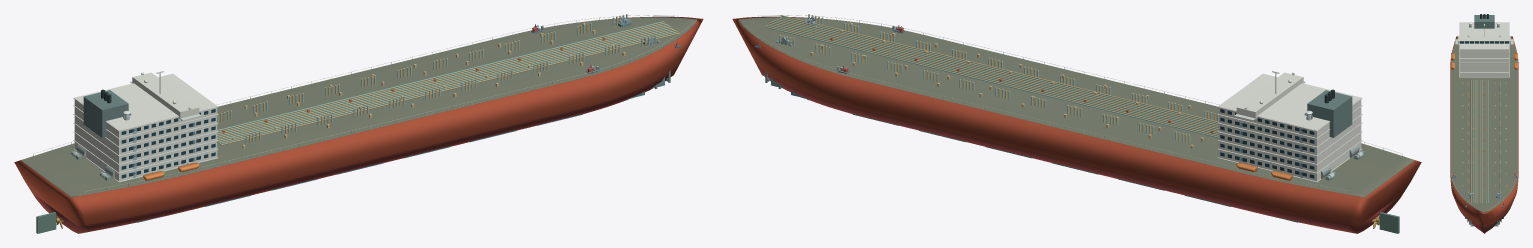
File: bow-pioneer.lod1.glb
3 views of the same model, side by side, from view 1: azimuth 30°, elevation 25°; view 2: azimuth 150°, elevation 25°; view 3: azimuth 270°, elevation 25° (orthographic). The views are drawn at different scales.
Visible parts, largest first — view 1: bow-pioneer.structure.decks.main-strength-deck.1, bow-pioneer.structure.hull.outer-hull-shell.1, bow-pioneer.structure.hull.antifouling-underwater-shell.1, bow-pioneer.accommodation.superstructure.deck-6-enclosure.1, bow-pioneer.propulsion.exhaust.exhaust-casing.1, bow-pioneer.navigation.bridge.wheelhouse.1, bow-pioneer.accommodation.superstructure.deck-3-enclosure.1, bow-pioneer.accommodation.superstructure.deck-2-enclosure.1, bow-pioneer.accommodation.superstructure.deck-4-enclosure.1, bow-pioneer.cargo.deck-piping.cargo-pipeline-6.1, bow-pioneer.cargo.deck-piping.cargo-pipeline-7.1, bow-pioneer.cargo.deck-piping.cargo-pipeline-5.1 (+10 smaller); view 2: bow-pioneer.structure.decks.main-strength-deck.1, bow-pioneer.structure.hull.outer-hull-shell.1, bow-pioneer.structure.hull.antifouling-underwater-shell.1, bow-pioneer.accommodation.superstructure.deck-6-enclosure.1, bow-pioneer.propulsion.exhaust.exhaust-casing.1, bow-pioneer.navigation.bridge.wheelhouse.1, bow-pioneer.accommodation.superstructure.deck-3-enclosure.1, bow-pioneer.accommodation.superstructure.deck-2-enclosure.1, bow-pioneer.accommodation.superstructure.deck-4-enclosure.1, bow-pioneer.cargo.deck-piping.cargo-pipeline-1.1, bow-pioneer.cargo.deck-piping.cargo-pipeline-2.1, bow-pioneer.cargo.deck-piping.cargo-pipeline-5.1 (+10 smaller); view 3: bow-pioneer.structure.decks.main-strength-deck.1, bow-pioneer.structure.hull.outer-hull-shell.1, bow-pioneer.accommodation.superstructure.deck-6-enclosure.1, bow-pioneer.navigation.bridge.wheelhouse.1, bow-pioneer.propulsion.exhaust.exhaust-casing.1, bow-pioneer.cargo.deck-piping.cargo-pipeline-6.1, bow-pioneer.cargo.deck-piping.cargo-pipeline-7.1, bow-pioneer.cargo.deck-piping.cargo-pipeline-8.1, bow-pioneer.accommodation.superstructure.deck-1-enclosure.1, bow-pioneer.accommodation.superstructure.deck-2-enclosure.1, bow-pioneer.accommodation.superstructure.deck-3-enclosure.1, bow-pioneer.accommodation.superstructure.deck-4-enclosure.1 (+16 smaller).
Part boxes in pixels (x1,y1,x2,y2): bow-pioneer.structure.decks.main-strength-deck.1: (21, 17, 696, 197); bow-pioneer.structure.hull.outer-hull-shell.1: (14, 16, 703, 226); bow-pioneer.structure.hull.antifouling-underwater-shell.1: (32, 60, 681, 233); bow-pioneer.accommodation.superstructure.deck-6-enclosure.1: (74, 74, 217, 137); bow-pioneer.propulsion.exhaust.exhaust-casing.1: (83, 90, 128, 137); bow-pioneer.navigation.bridge.wheelhouse.1: (132, 72, 199, 119); bow-pioneer.accommodation.superstructure.deck-3-enclosure.1: (74, 124, 217, 163); bow-pioneer.accommodation.superstructure.deck-2-enclosure.1: (74, 133, 217, 172); bow-pioneer.accommodation.superstructure.deck-4-enclosure.1: (74, 116, 217, 155); bow-pioneer.cargo.deck-piping.cargo-pipeline-6.1: (217, 27, 672, 139); bow-pioneer.cargo.deck-piping.cargo-pipeline-7.1: (217, 29, 674, 141); bow-pioneer.cargo.deck-piping.cargo-pipeline-5.1: (217, 26, 670, 137); bow-pioneer.structure.decks.main-strength-deck.1: (739, 17, 1414, 197); bow-pioneer.structure.hull.outer-hull-shell.1: (732, 16, 1421, 226); bow-pioneer.structure.hull.antifouling-underwater-shell.1: (754, 60, 1403, 233); bow-pioneer.accommodation.superstructure.deck-6-enclosure.1: (1218, 74, 1361, 137); bow-pioneer.propulsion.exhaust.exhaust-casing.1: (1307, 90, 1352, 137); bow-pioneer.navigation.bridge.wheelhouse.1: (1236, 72, 1303, 119); bow-pioneer.accommodation.superstructure.deck-3-enclosure.1: (1218, 124, 1361, 163); bow-pioneer.accommodation.superstructure.deck-2-enclosure.1: (1218, 133, 1361, 172); bow-pioneer.accommodation.superstructure.deck-4-enclosure.1: (1218, 116, 1361, 155); bow-pioneer.cargo.deck-piping.cargo-pipeline-1.1: (765, 26, 1218, 137); bow-pioneer.cargo.deck-piping.cargo-pipeline-2.1: (766, 25, 1218, 136); bow-pioneer.cargo.deck-piping.cargo-pipeline-5.1: (772, 21, 1218, 131); bow-pioneer.structure.decks.main-strength-deck.1: (1451, 37, 1517, 212); bow-pioneer.structure.hull.outer-hull-shell.1: (1450, 36, 1518, 227); bow-pioneer.accommodation.superstructure.deck-6-enclosure.1: (1460, 22, 1508, 53); bow-pioneer.navigation.bridge.wheelhouse.1: (1458, 35, 1510, 44); bow-pioneer.propulsion.exhaust.exhaust-casing.1: (1474, 15, 1494, 28); bow-pioneer.cargo.deck-piping.cargo-pipeline-6.1: (1478, 79, 1479, 203); bow-pioneer.cargo.deck-piping.cargo-pipeline-7.1: (1476, 80, 1477, 203); bow-pioneer.cargo.deck-piping.cargo-pipeline-8.1: (1474, 80, 1475, 203); bow-pioneer.accommodation.superstructure.deck-1-enclosure.1: (1460, 72, 1508, 76); bow-pioneer.accommodation.superstructure.deck-2-enclosure.1: (1460, 68, 1508, 72); bow-pioneer.accommodation.superstructure.deck-3-enclosure.1: (1460, 63, 1508, 67); bow-pioneer.accommodation.superstructure.deck-4-enclosure.1: (1460, 58, 1508, 62).
Size of the model in its own units: 229 by 43.12 by 37.
